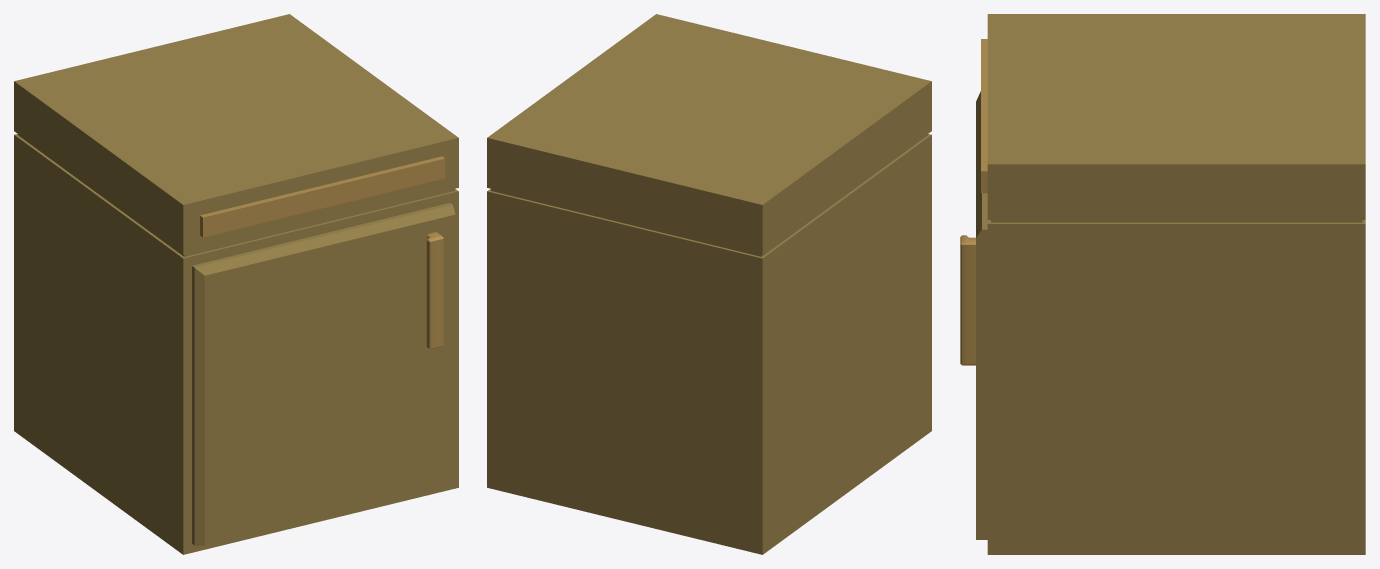
The model's file is CabinetGeo.fbx.
3 renders of one model, left to right at view 1: azimuth 30°, elevation 25°; view 2: azimuth 150°, elevation 25°; view 3: azimuth 270°, elevation 25°, orthographic. The views are drawn at different scales.
Visible parts, largest first — view 1: CabinetGeo; view 2: CabinetGeo; view 3: CabinetGeo.
Boxes of the visible parts, x1,y1,x2,y2 form: CabinetGeo: (14, 14, 458, 554); CabinetGeo: (487, 14, 931, 554); CabinetGeo: (960, 14, 1365, 554).
Bounding box in the file's own units: 172 × 208 × 196.
